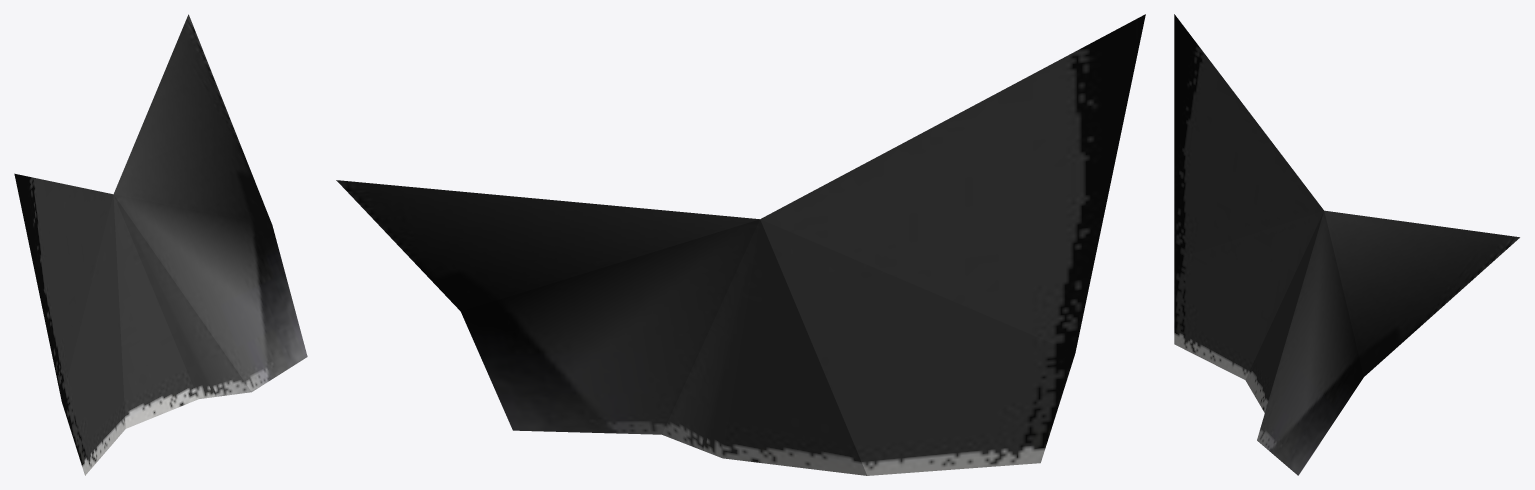
3 views of the same model, side by side, from view 1: azimuth 30°, elevation 25°; view 2: azimuth 150°, elevation 25°; view 3: azimuth 270°, elevation 25° (orthographic). The views are drawn at different scales.
Bounding box in the file's own units: 3.23 × 2.74 × 2.88.
Materials: 1 (1 with a texture image).
